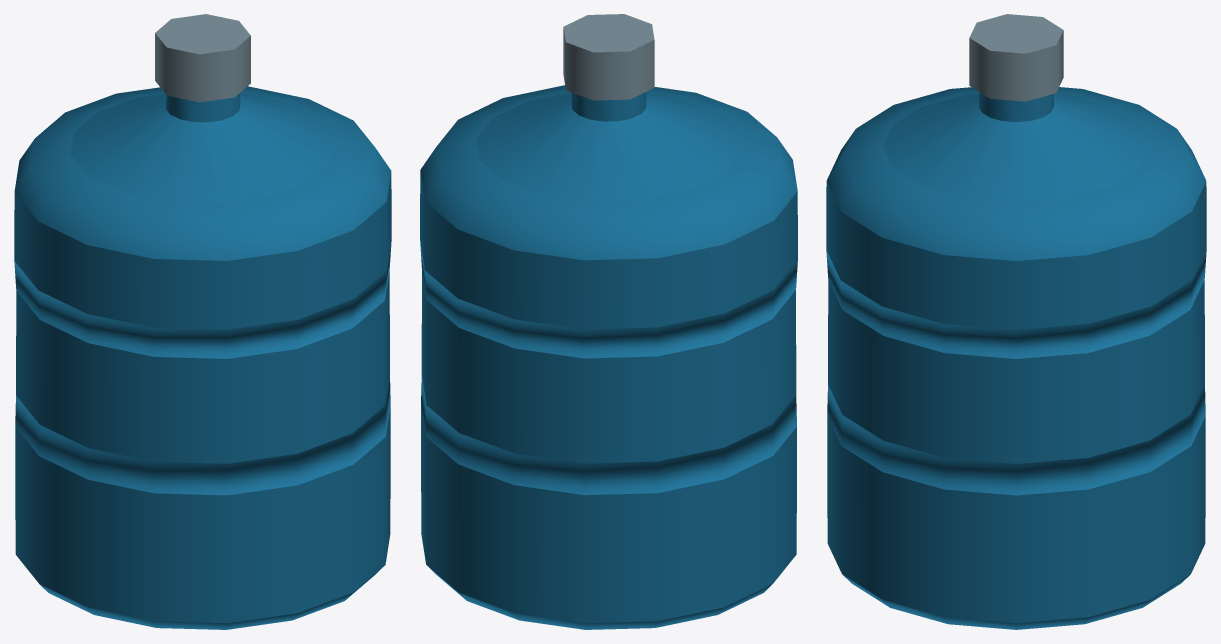
File: water_bottle.fbx
3 renders of one model, left to right at view 1: azimuth 30°, elevation 25°; view 2: azimuth 150°, elevation 25°; view 3: azimuth 270°, elevation 25°, orthographic.
Visible parts, largest first — view 1: water_bottle; view 2: water_bottle; view 3: water_bottle.
Boxes of the visible parts, x1,y1,x2,y2 form: water_bottle: (14, 14, 391, 629); water_bottle: (420, 14, 797, 629); water_bottle: (826, 14, 1206, 629).
Size of the model in its own units: 66.13 by 99.89 by 66.13.
